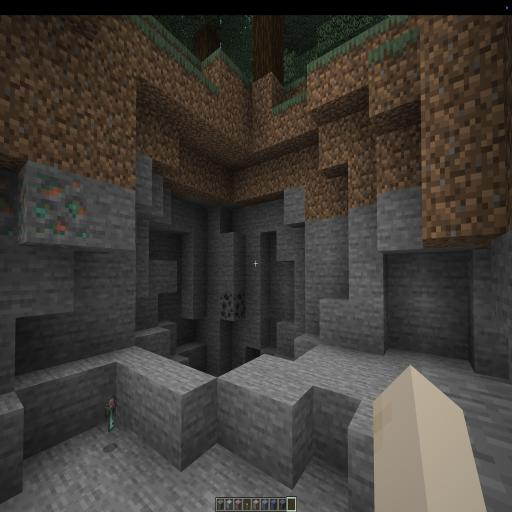coal ore: (220, 292, 248, 326)
